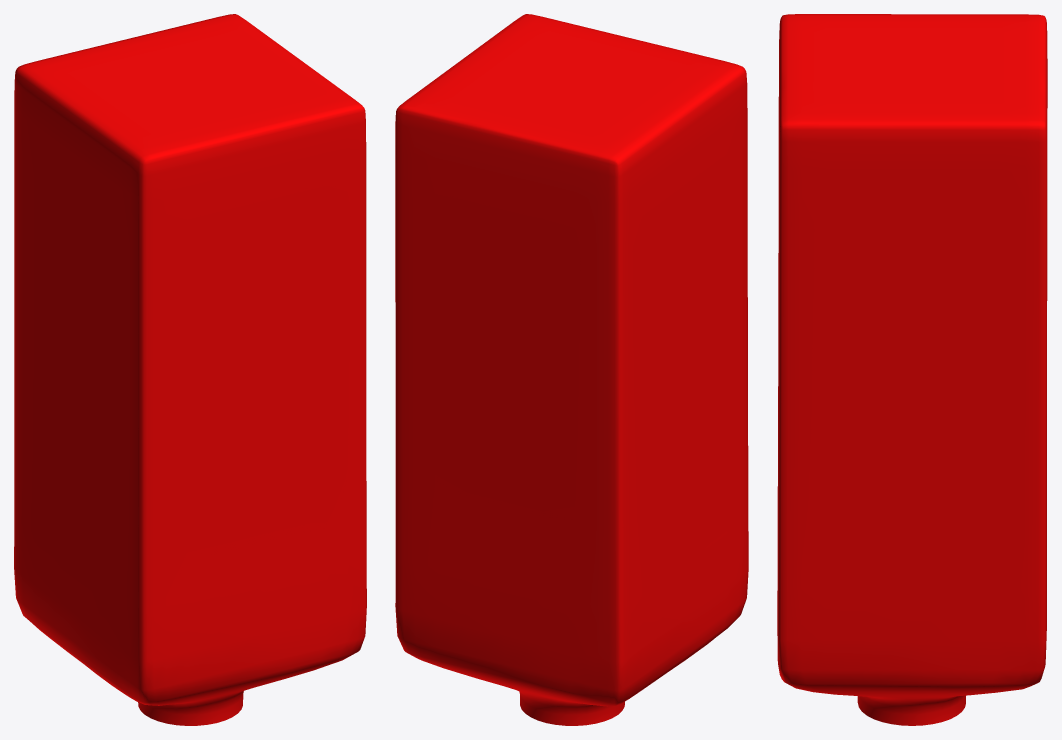
The model's file is bottle_red.obj.
The picture shows the model from 3 angles, left to right: view 1: azimuth 30°, elevation 25°; view 2: azimuth 150°, elevation 25°; view 3: azimuth 270°, elevation 25°; orthographic projection. The views are drawn at different scales.
Parts seen in each view (by area): view 1: 13225_square_alcohol_bottle_v2; view 2: 13225_square_alcohol_bottle_v2; view 3: 13225_square_alcohol_bottle_v2.
Part boxes in pixels (box(x1,y1,x2,y2)): 13225_square_alcohol_bottle_v2: box(14, 14, 366, 725); 13225_square_alcohol_bottle_v2: box(395, 14, 748, 725); 13225_square_alcohol_bottle_v2: box(777, 14, 1047, 725).
Size of the model in its own units: 0.063 by 0.1642 by 0.0632.
1 material, 1 textured.
